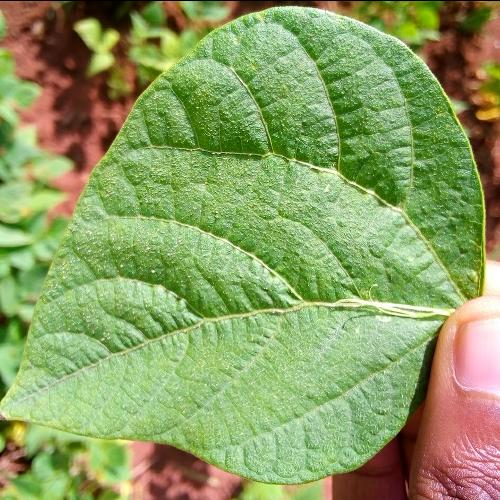sehat: (1, 10, 483, 465)
